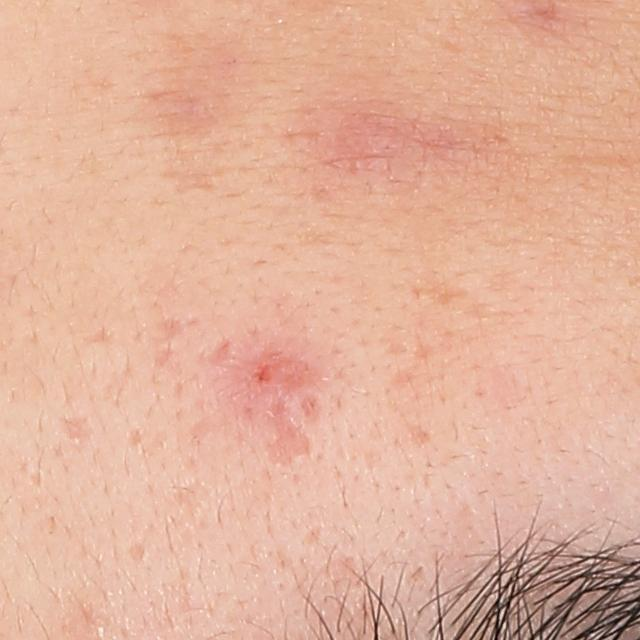atrophic_scar: (257, 413, 314, 469), (162, 160, 239, 195), (411, 273, 463, 305), (201, 335, 233, 372), (63, 418, 99, 444), (299, 522, 322, 550), (124, 539, 148, 563), (125, 429, 145, 450)
